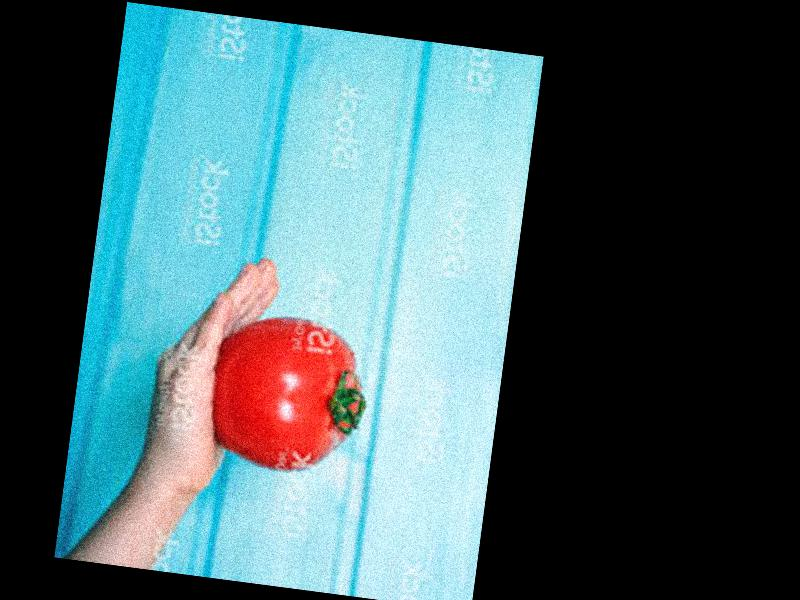Tomato: (203, 308, 373, 477)
